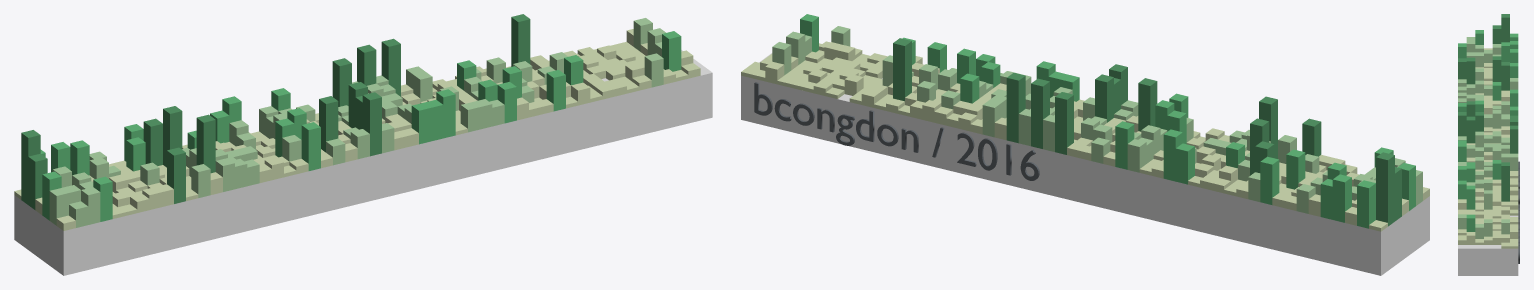
File: sample.dae
3 renders of one model, left to right at view 1: azimuth 30°, elevation 25°; view 2: azimuth 150°, elevation 25°; view 3: azimuth 270°, elevation 25°, orthographic. The views are drawn at different scales.
Visible parts, largest first — view 1: Cube_363; view 2: Cube_363; view 3: Cube_363.
Part boxes in pixels (x1,y1,x2,y2): Cube_363: (14,14,712,275); Cube_363: (741,14,1429,275); Cube_363: (1458,14,1519,275).
Bounding box in the file's own units: 15.14 × 2.05 × 2.5.
